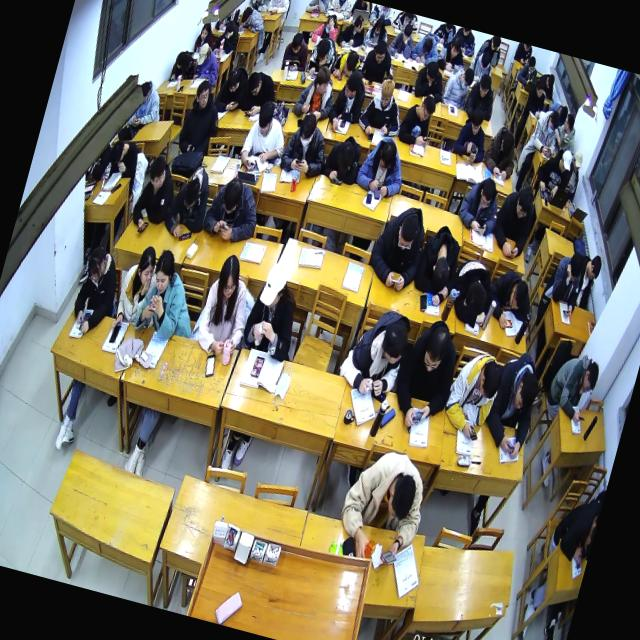bow: (408, 222, 467, 308), (200, 172, 264, 247), (160, 162, 217, 244), (444, 254, 499, 326), (481, 266, 538, 334), (319, 129, 366, 188), (240, 66, 280, 118), (212, 62, 250, 116), (434, 32, 470, 74), (409, 26, 444, 66), (329, 45, 364, 83), (310, 9, 342, 45), (237, 2, 270, 36), (169, 46, 198, 82), (535, 70, 558, 100), (247, 0, 272, 13)
down: (384, 469, 420, 522), (258, 261, 290, 310), (420, 321, 450, 373), (215, 254, 243, 298), (511, 371, 540, 412), (476, 360, 505, 400), (220, 174, 246, 214), (394, 211, 419, 251), (84, 245, 108, 282), (580, 359, 602, 396), (253, 102, 276, 136), (513, 185, 535, 220), (507, 278, 531, 310), (296, 112, 318, 146), (334, 138, 356, 170), (376, 138, 398, 170), (474, 178, 496, 210), (180, 178, 202, 210), (417, 92, 438, 124), (565, 252, 585, 282), (376, 77, 395, 108), (341, 48, 362, 76), (466, 104, 485, 134), (586, 252, 604, 280), (108, 139, 126, 165), (244, 70, 262, 95), (459, 66, 476, 92), (498, 130, 516, 154), (224, 68, 242, 92), (372, 38, 388, 64), (558, 148, 574, 174), (314, 38, 331, 62), (544, 109, 560, 134), (196, 39, 211, 65), (136, 80, 152, 104), (423, 60, 439, 84), (476, 74, 492, 98), (478, 48, 493, 72), (448, 34, 463, 58), (570, 148, 585, 172), (290, 32, 304, 54), (532, 77, 546, 99), (420, 36, 434, 56), (222, 18, 235, 39), (525, 54, 538, 74), (174, 50, 186, 70), (240, 4, 252, 24), (401, 22, 413, 42), (372, 16, 385, 34), (324, 13, 335, 34), (544, 72, 556, 88)
lookup: (148, 248, 176, 295), (192, 80, 212, 108), (199, 20, 211, 41)
sit: (330, 442, 436, 570), (387, 314, 468, 435), (192, 251, 262, 362), (132, 245, 210, 343), (336, 302, 414, 399), (238, 259, 310, 362), (480, 348, 547, 458), (438, 347, 506, 445), (364, 199, 432, 292), (67, 244, 126, 338), (109, 241, 163, 338), (542, 346, 603, 424), (236, 96, 294, 176), (128, 152, 182, 235), (174, 78, 228, 159), (487, 178, 541, 258), (278, 108, 334, 180), (353, 131, 411, 200), (355, 73, 411, 142), (455, 170, 507, 238), (542, 245, 589, 318), (292, 60, 342, 124), (326, 64, 370, 134), (452, 102, 496, 164), (396, 89, 439, 148), (481, 122, 524, 180), (354, 36, 400, 88), (532, 142, 574, 198), (126, 76, 166, 130), (464, 69, 502, 120), (411, 56, 450, 105), (526, 106, 563, 156), (572, 251, 603, 310), (440, 62, 476, 110), (304, 33, 340, 80), (105, 137, 144, 179), (190, 39, 224, 84), (280, 30, 314, 74), (549, 109, 582, 154), (385, 18, 418, 61), (560, 148, 586, 202), (335, 10, 370, 50), (465, 43, 496, 83), (212, 17, 242, 57), (522, 77, 550, 119), (362, 14, 392, 51), (515, 54, 541, 86), (193, 19, 216, 53), (266, 0, 293, 16)
